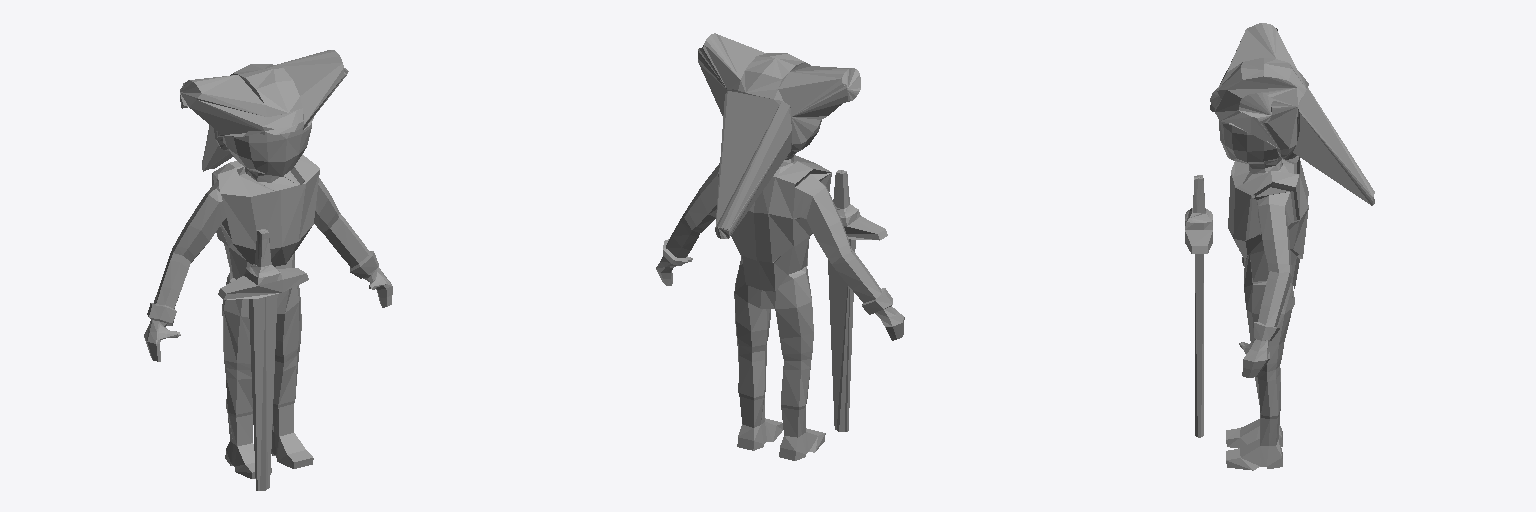
The model's file is stat.obj.
3 renders of one model, left to right at view 1: azimuth 30°, elevation 25°; view 2: azimuth 150°, elevation 25°; view 3: azimuth 270°, elevation 25°, orthographic.
Visible parts, largest first — view 1: Stat_Cube.002; view 2: Stat_Cube.002; view 3: Stat_Cube.002.
Part boxes in pixels (bbox=[...]): Stat_Cube.002: bbox=[144, 50, 392, 490]; Stat_Cube.002: bbox=[656, 33, 904, 460]; Stat_Cube.002: bbox=[1185, 23, 1374, 470].
Size of the model in its own units: 6.48 by 10.09 by 4.39.